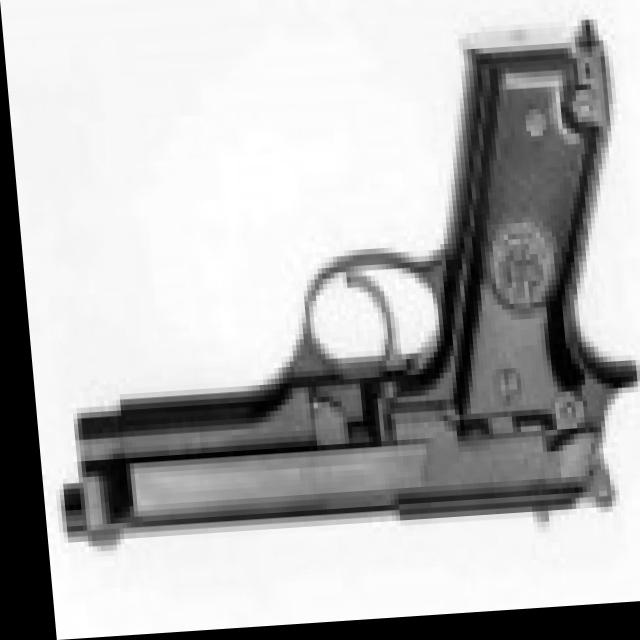handgun: (21, 43, 640, 570)
